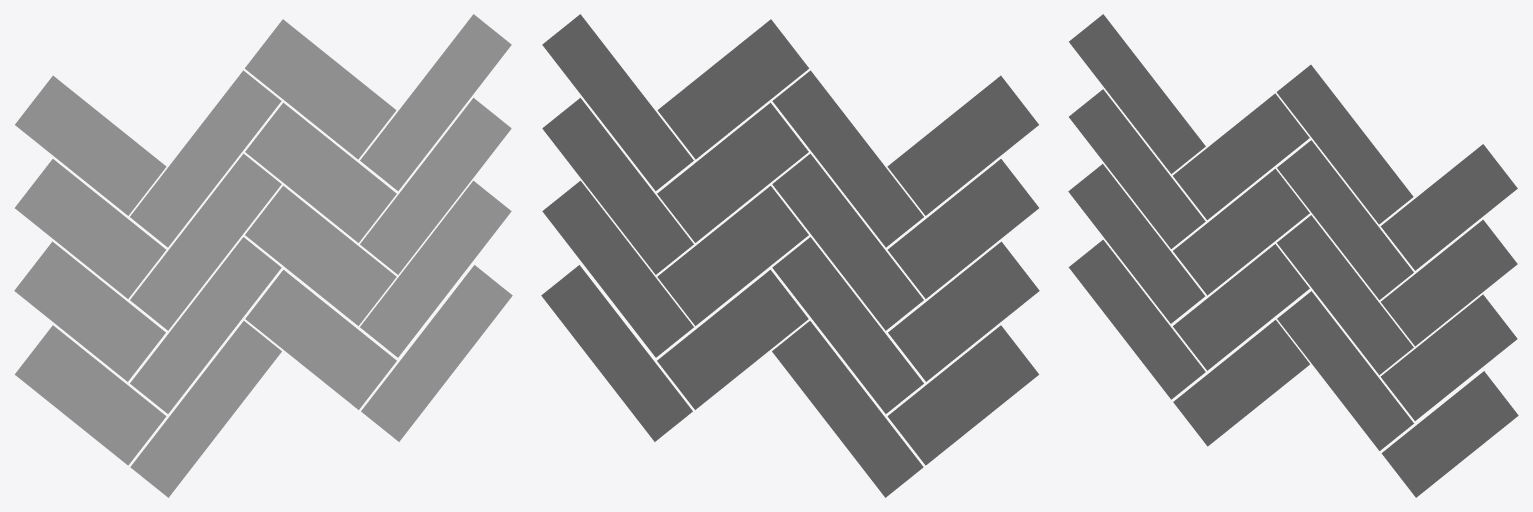
Rendered from herringbonelarge.gltf.
The picture shows the model from 3 angles, left to right: view 1: azimuth 30°, elevation 25°; view 2: azimuth 150°, elevation 25°; view 3: azimuth 330°, elevation 25°; orthographic projection. The views are drawn at different scales.
Parts seen in each view (by area): view 1: herringbonelarge; view 2: herringbonelarge; view 3: herringbonelarge.
Part boxes in pixels (<box>): herringbonelarge: <box>14,14,512,497</box>; herringbonelarge: <box>541,14,1039,497</box>; herringbonelarge: <box>1068,14,1518,497</box>.
Bounding box in the file's own units: 438 × 379 × 0.
Materials: 16 (16 with a texture image).
